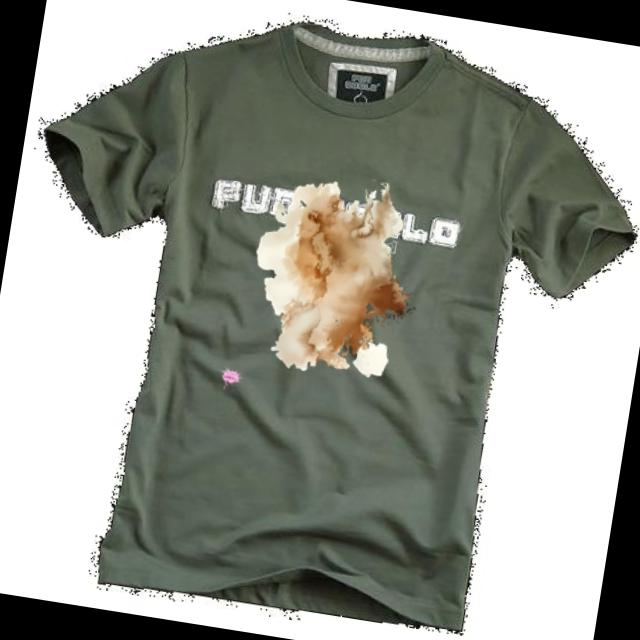stain: (244, 183, 426, 384), (298, 172, 402, 206), (219, 364, 250, 392)
